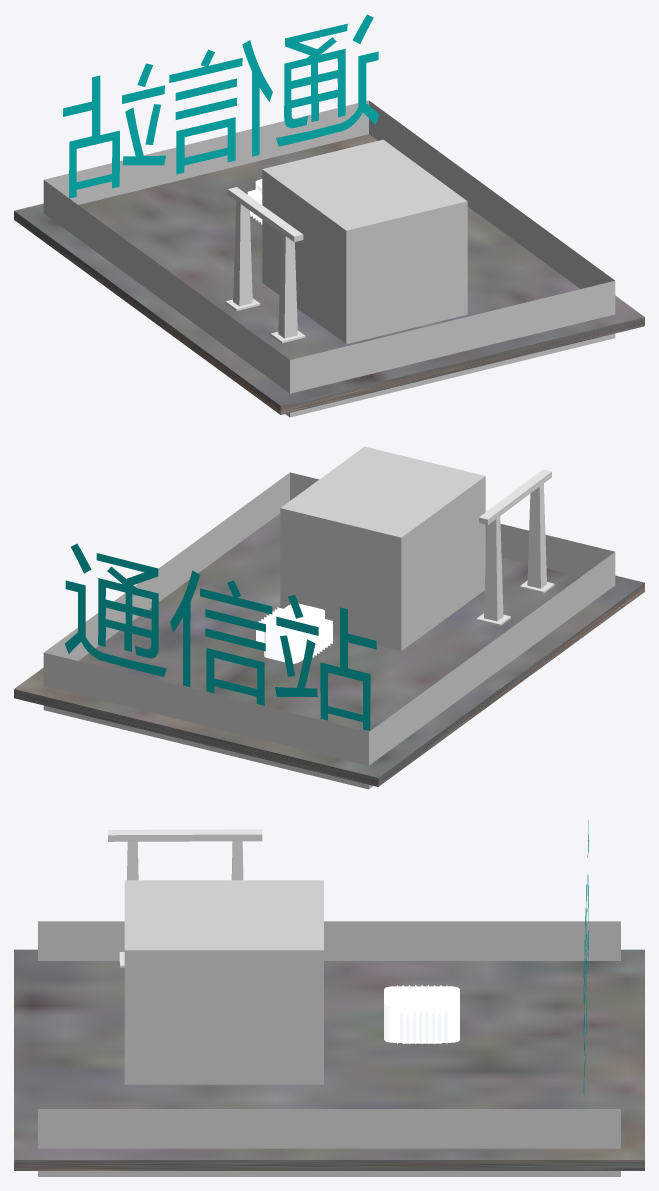
File: homeicon.gltf
3 renders of one model, top to bottom at view 1: azimuth 30°, elevation 25°; view 2: azimuth 150°, elevation 25°; view 3: azimuth 270°, elevation 25°, orthographic. The views are drawn at different scales.
Visible parts, largest first — view 1: Cube, Cube.001, Cube.004, Curve.002, ElectricTower.068; view 2: Cube, Cube.004, Cube.001, Curve.002, ElectricTower.068, ElectricConverter.064; view 3: Cube, Cube.001, Cube.004, ElectricConverter.064, ElectricTower.068, Curve.002.
Boxes of the visible parts, left/top/right/bottom form: Cube: left=14, top=134, right=644, bottom=414; Cube.001: left=43, top=100, right=615, bottom=417; Cube.004: left=262, top=139, right=467, bottom=344; Curve.002: left=63, top=14, right=379, bottom=198; ElectricTower.068: left=225, top=187, right=305, bottom=343; Cube: left=14, top=513, right=644, bottom=786; Cube.004: left=280, top=446, right=485, bottom=650; Cube.001: left=43, top=472, right=615, bottom=789; Curve.002: left=65, top=543, right=376, bottom=730; ElectricTower.068: left=476, top=469, right=554, bottom=625; ElectricConverter.064: left=256, top=603, right=332, bottom=663; Cube: left=14, top=949, right=644, bottom=1170; Cube.001: left=38, top=921, right=620, bottom=1176; Cube.004: left=124, top=880, right=323, bottom=1084; ElectricConverter.064: left=384, top=985, right=459, bottom=1044; ElectricTower.068: left=108, top=829, right=262, bottom=967; Curve.002: left=583, top=820, right=588, bottom=1107.
Bounding box in the file's own units: 0.1735 × 0.0832 × 0.2201.
6 materials, 1 textured.
